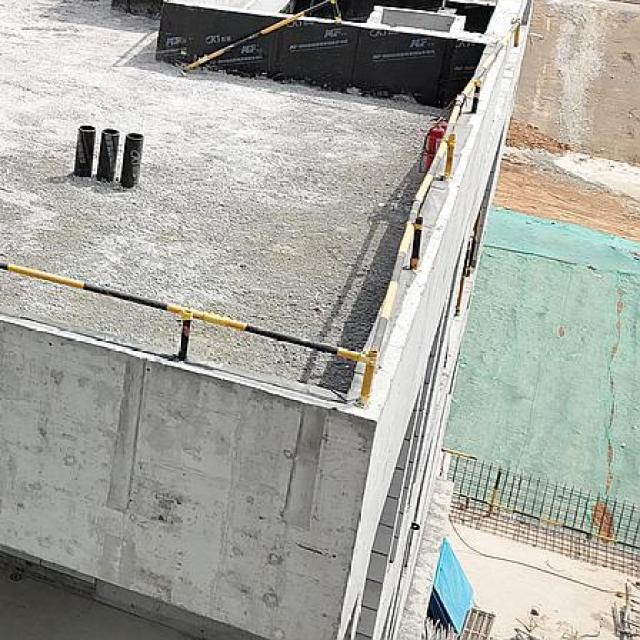edge_guardrail: (4, 19, 522, 405), (181, 0, 345, 73)
